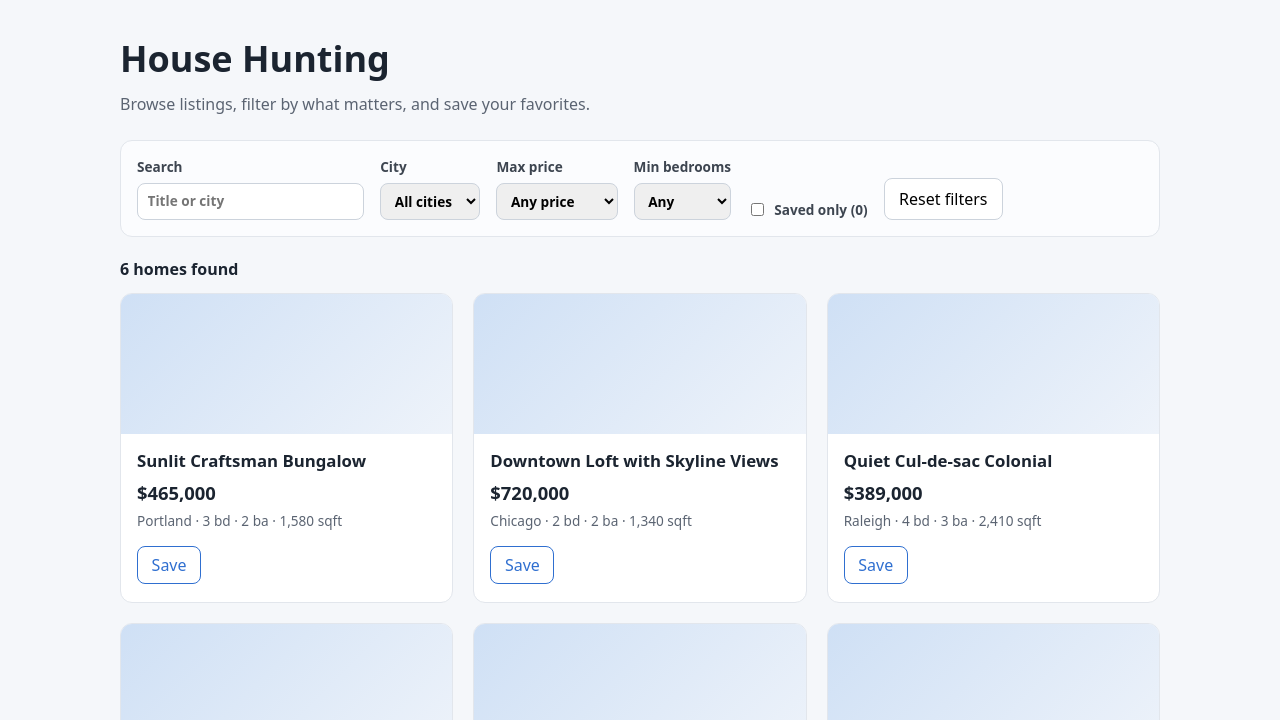
App › combines the city and max price filters
The image size is (1280, 720).
Select "Portland" in the dropdown labelled "City": (430, 201) [380,183,480,220]
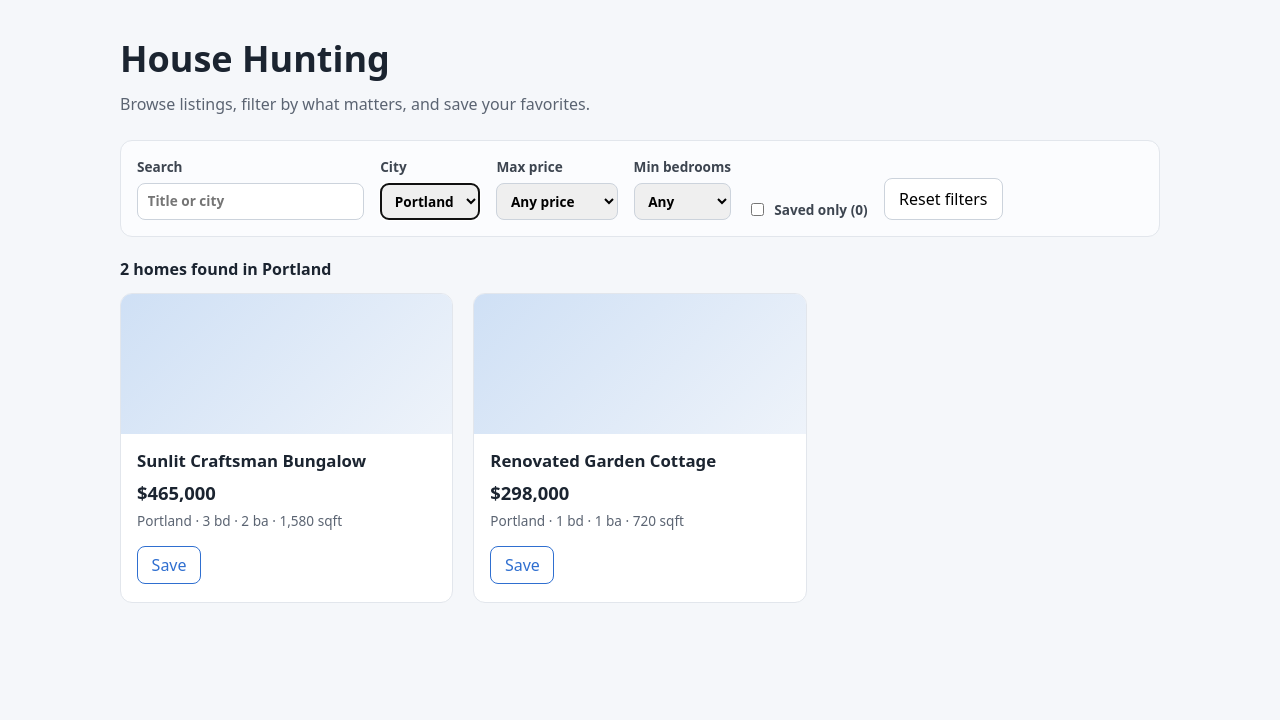
Select "Up to $300k" in the dropdown labelled "Max price": (557, 201) [496,183,618,220]
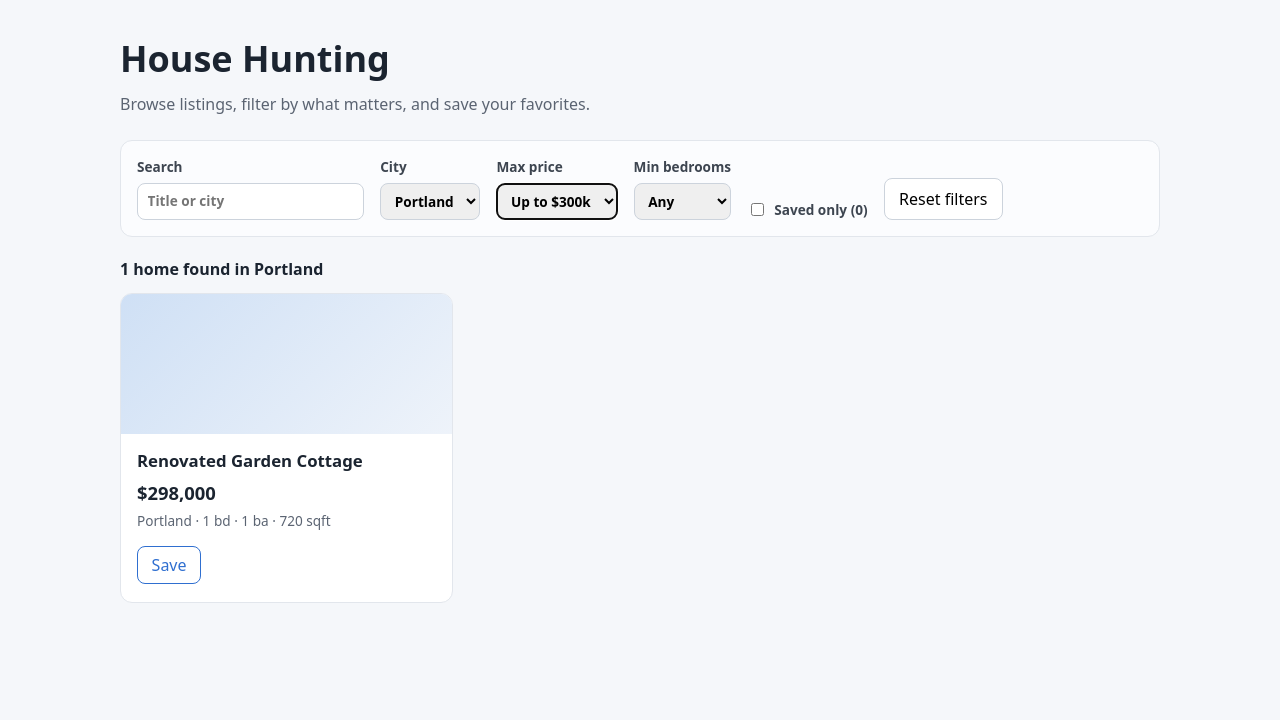
Result: the message reads "1 home found in Portland" at [120,258,323,280]
